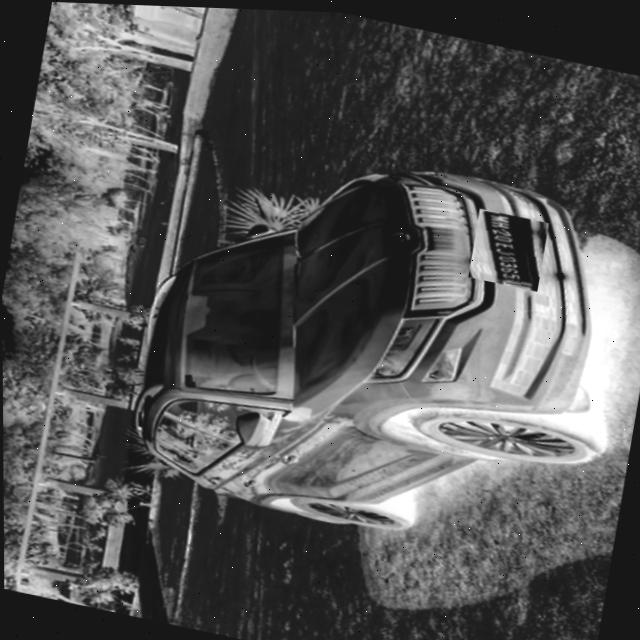Non_registered: (467, 203, 549, 286)
